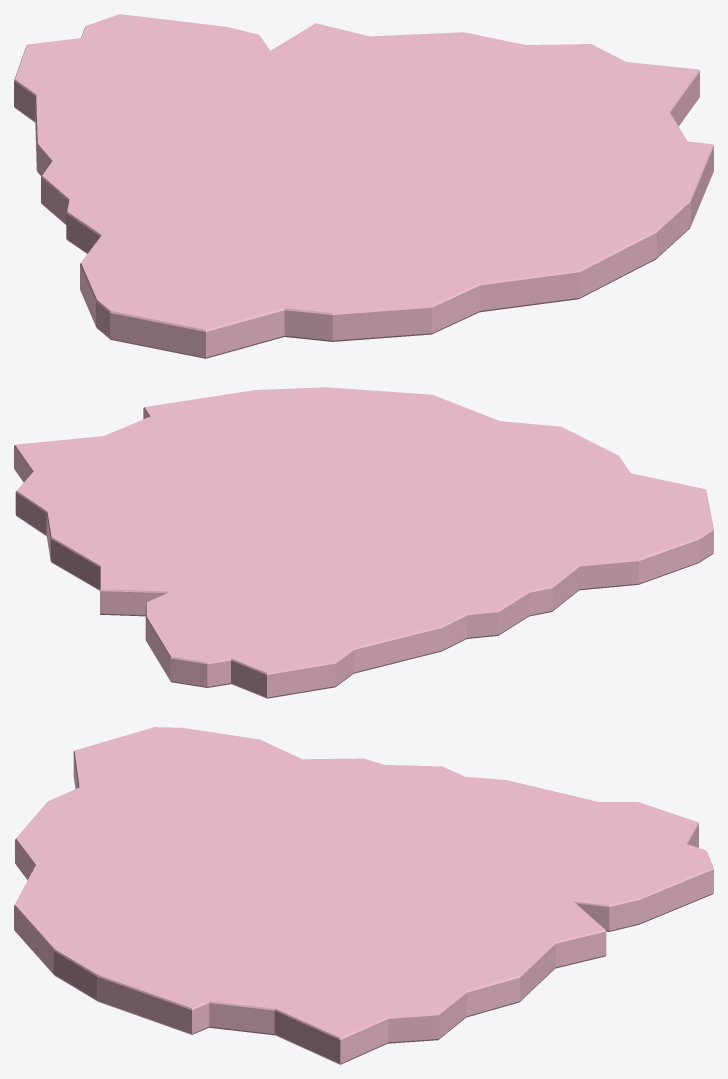
File: URY.glb
The picture shows the model from 3 angles, top to bottom: view 1: azimuth 30°, elevation 25°; view 2: azimuth 150°, elevation 25°; view 3: azimuth 270°, elevation 25°; orthographic projection. The views are drawn at different scales.
Size of the model in its own units: 1.7 by 0.068 by 1.61.
